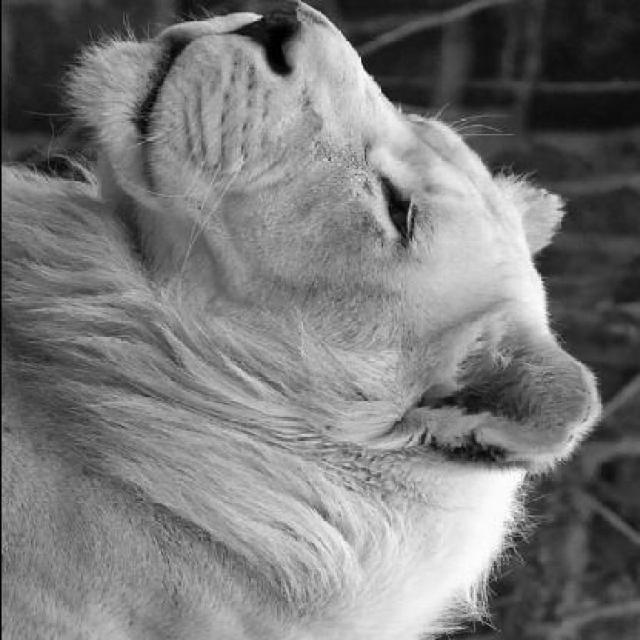Lion: (2, 0, 623, 628)
